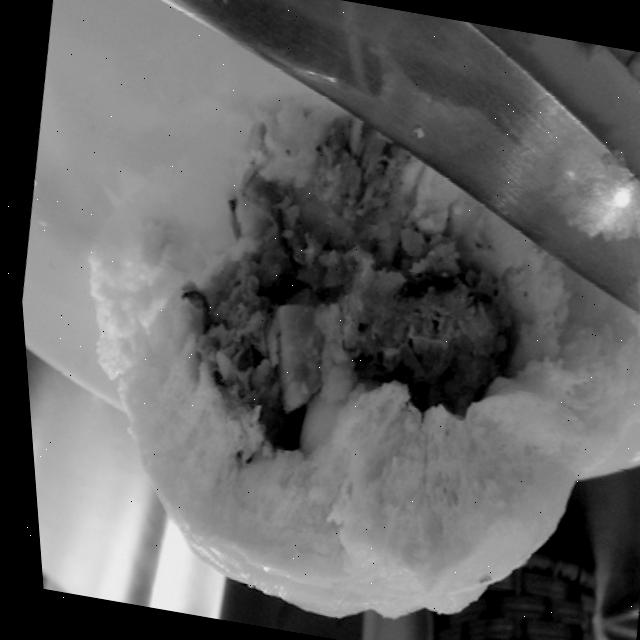带馅早点: (28, 36, 640, 640)
